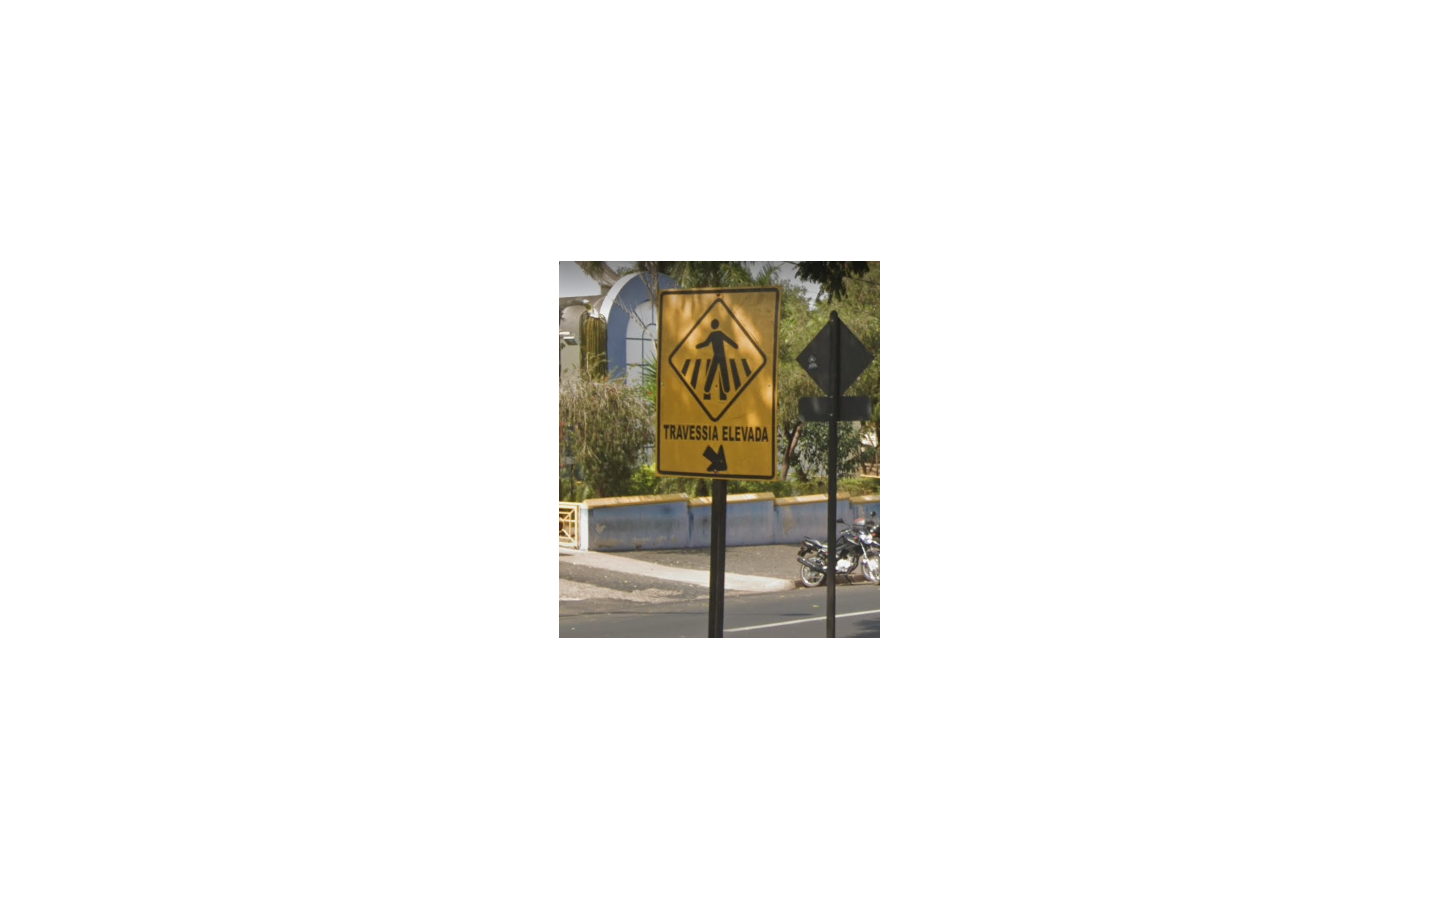telev: (654, 287, 781, 480)
